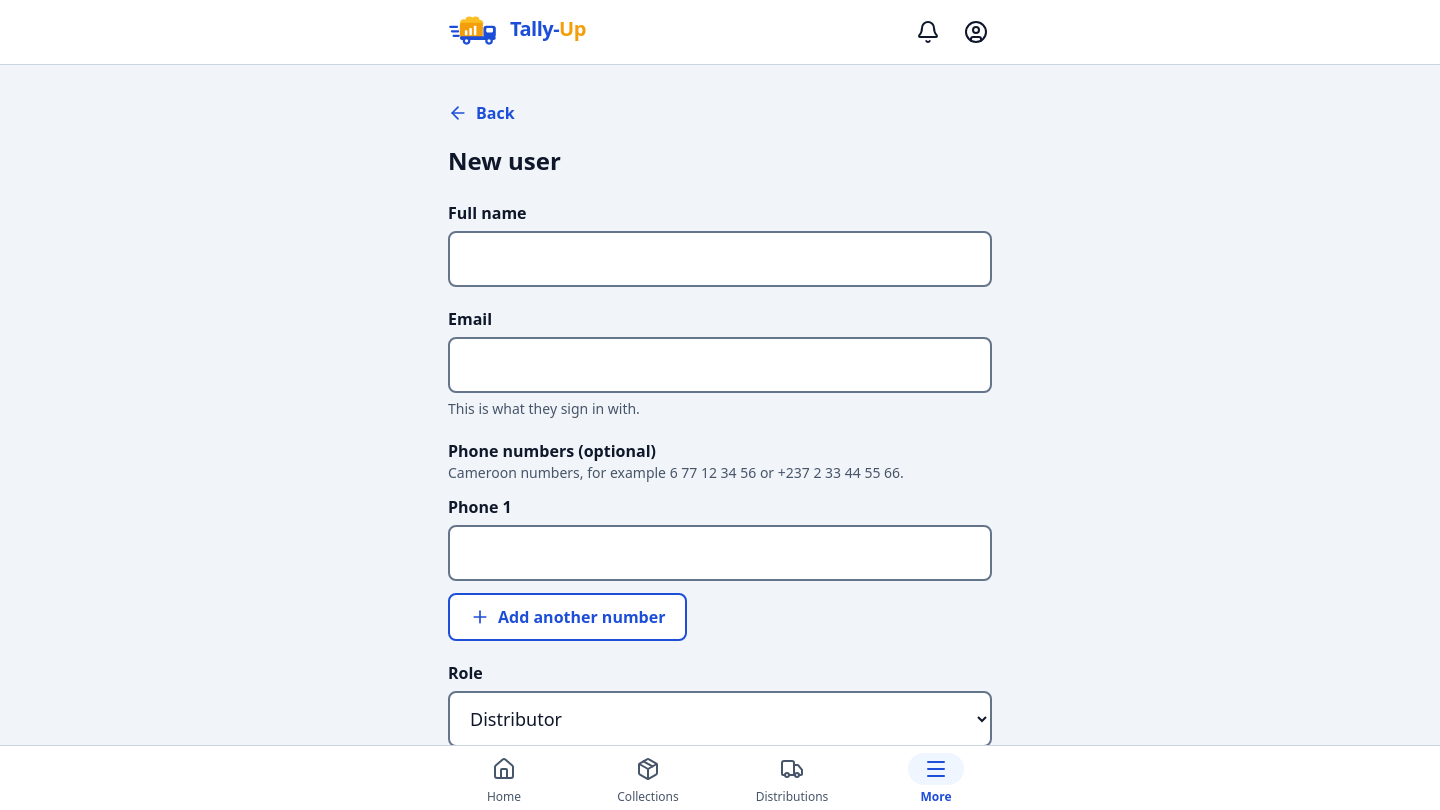
Test: Add user › USR-01: creates a distributor, remembers the password for the admin to pass on, and goes to the list
Type "Ann Distributor" into the field labelled "Full name" at (720, 259), box [448, 231, 992, 287]
Type "Ann@Example.test" into the field labelled "Email" at (720, 365), box [448, 337, 992, 393]
Type "6 77 12 34 56" into the field labelled "Phone 1" at (720, 553), box [448, 525, 992, 581]
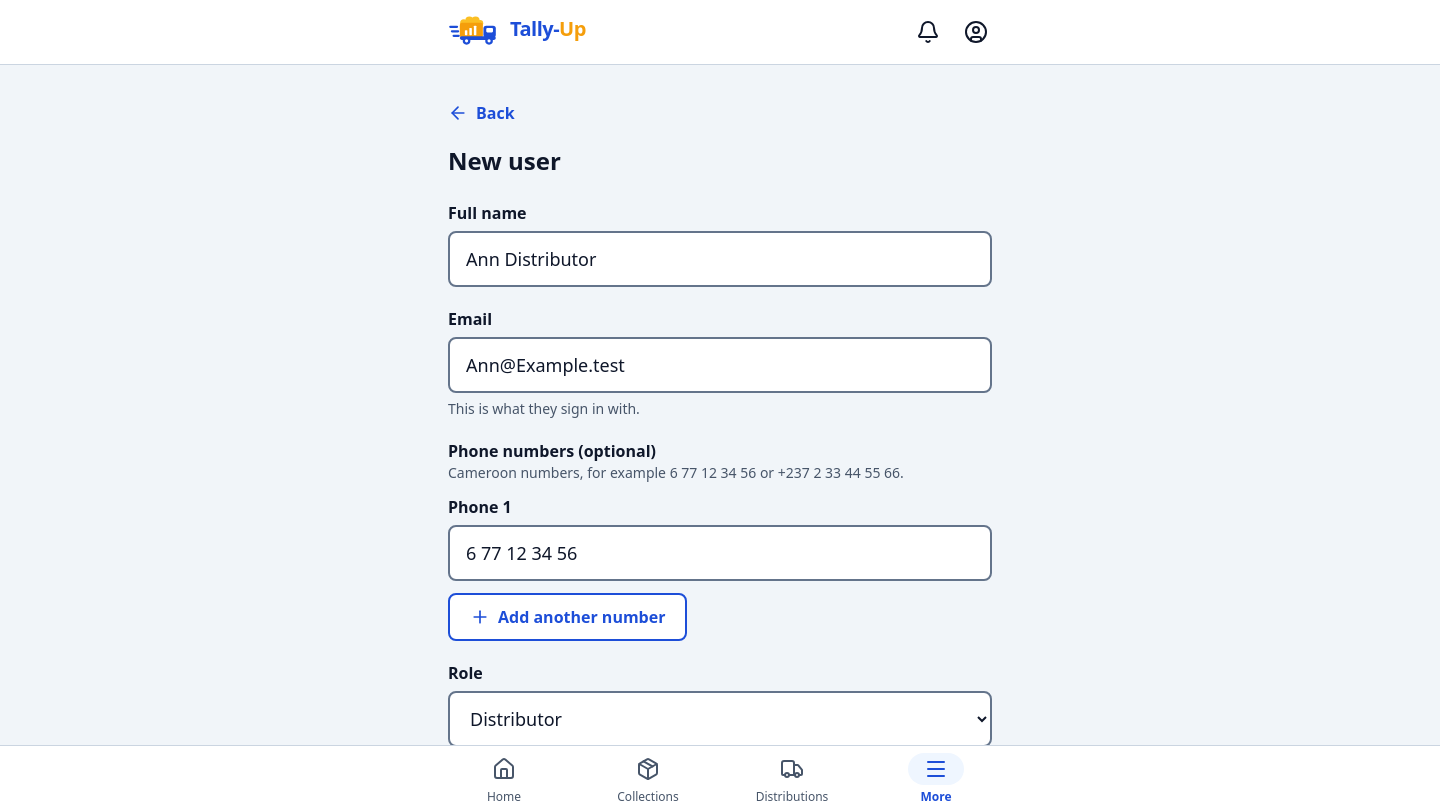
Click the button "Add another number" at (568, 617), box [448, 593, 688, 641]
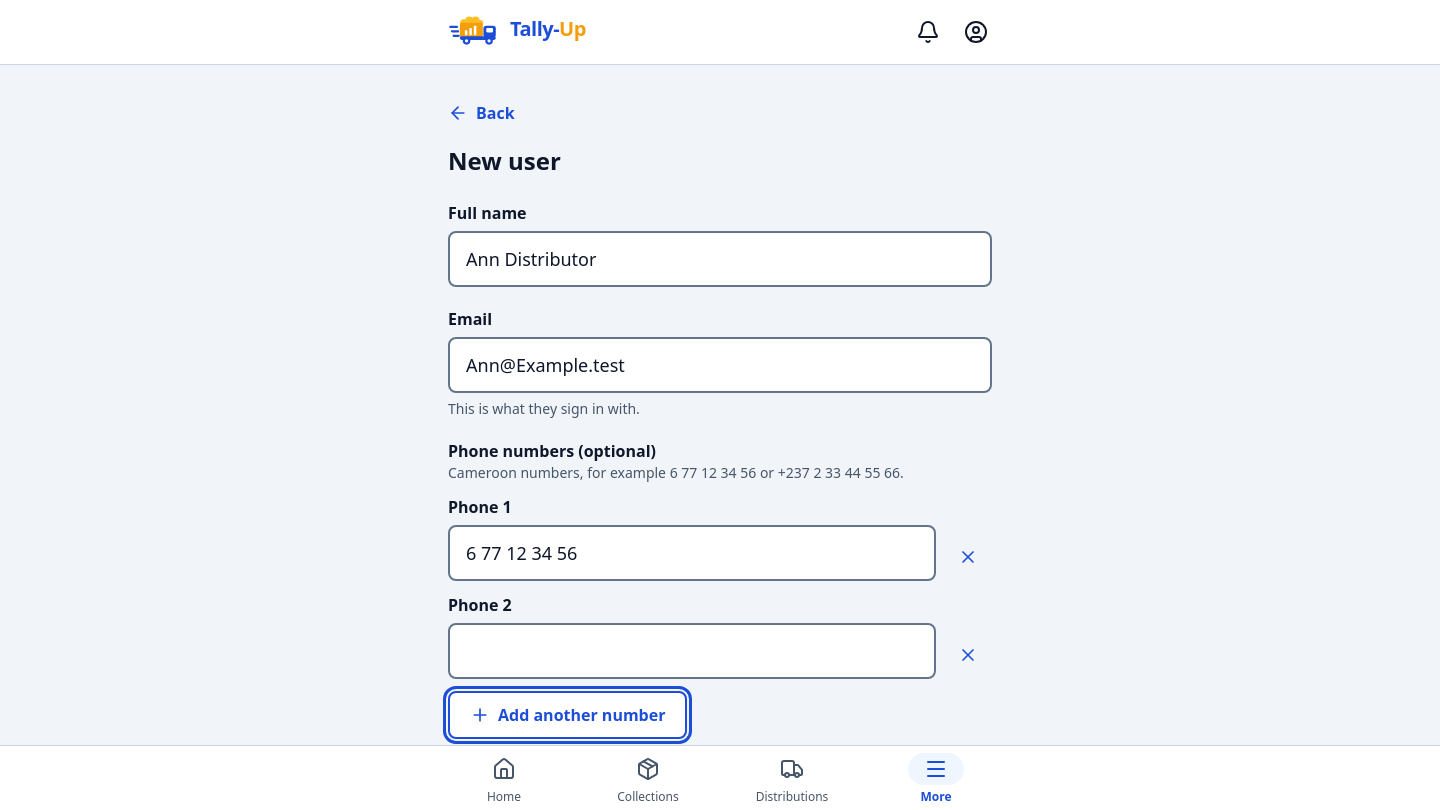
Type "+237 233 44 55 66" into the field labelled "Phone 2" at (692, 651), box [448, 623, 936, 679]
(page scrolled)
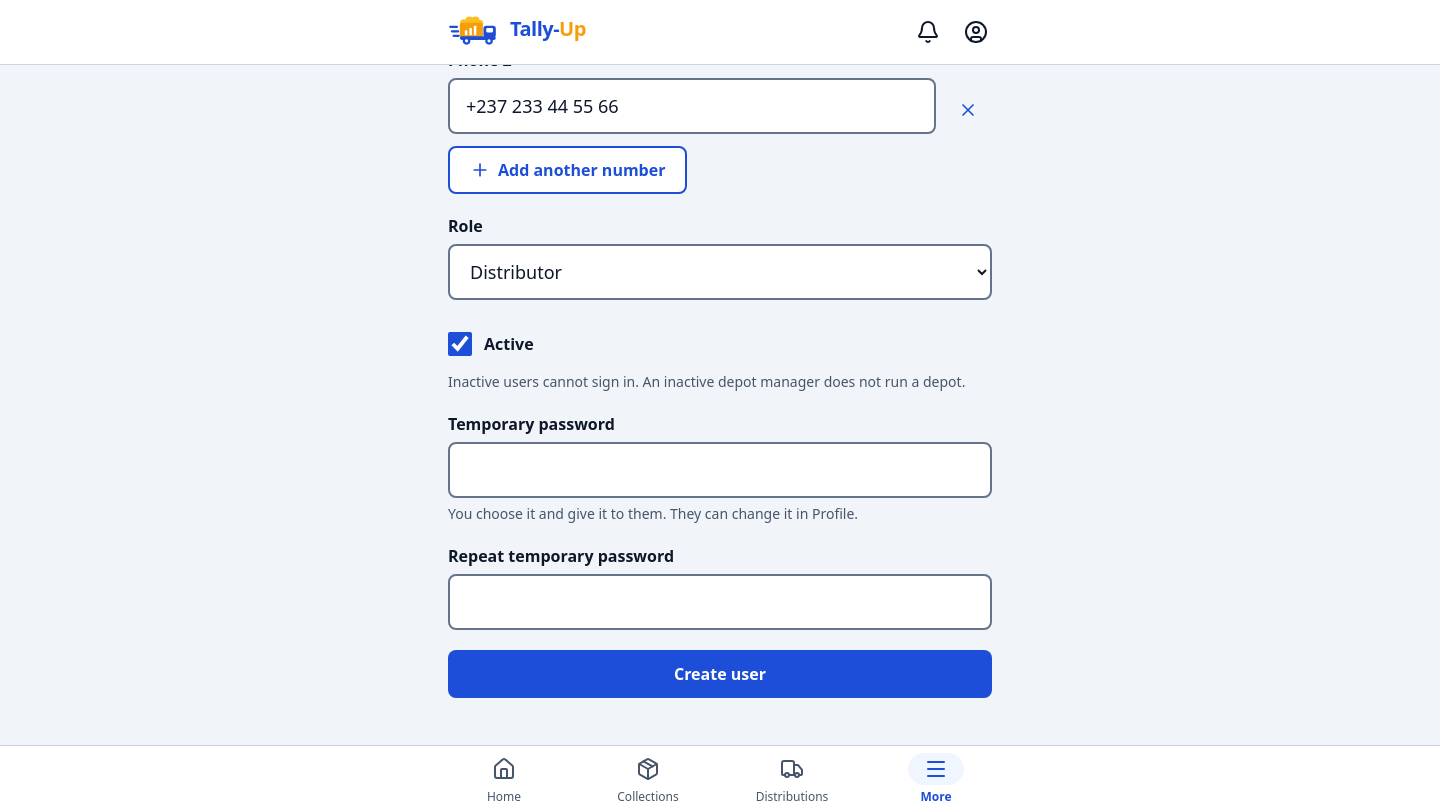
Type "temp-pass-1" into the password field labelled "Temporary password" at (720, 470), box [448, 442, 992, 498]
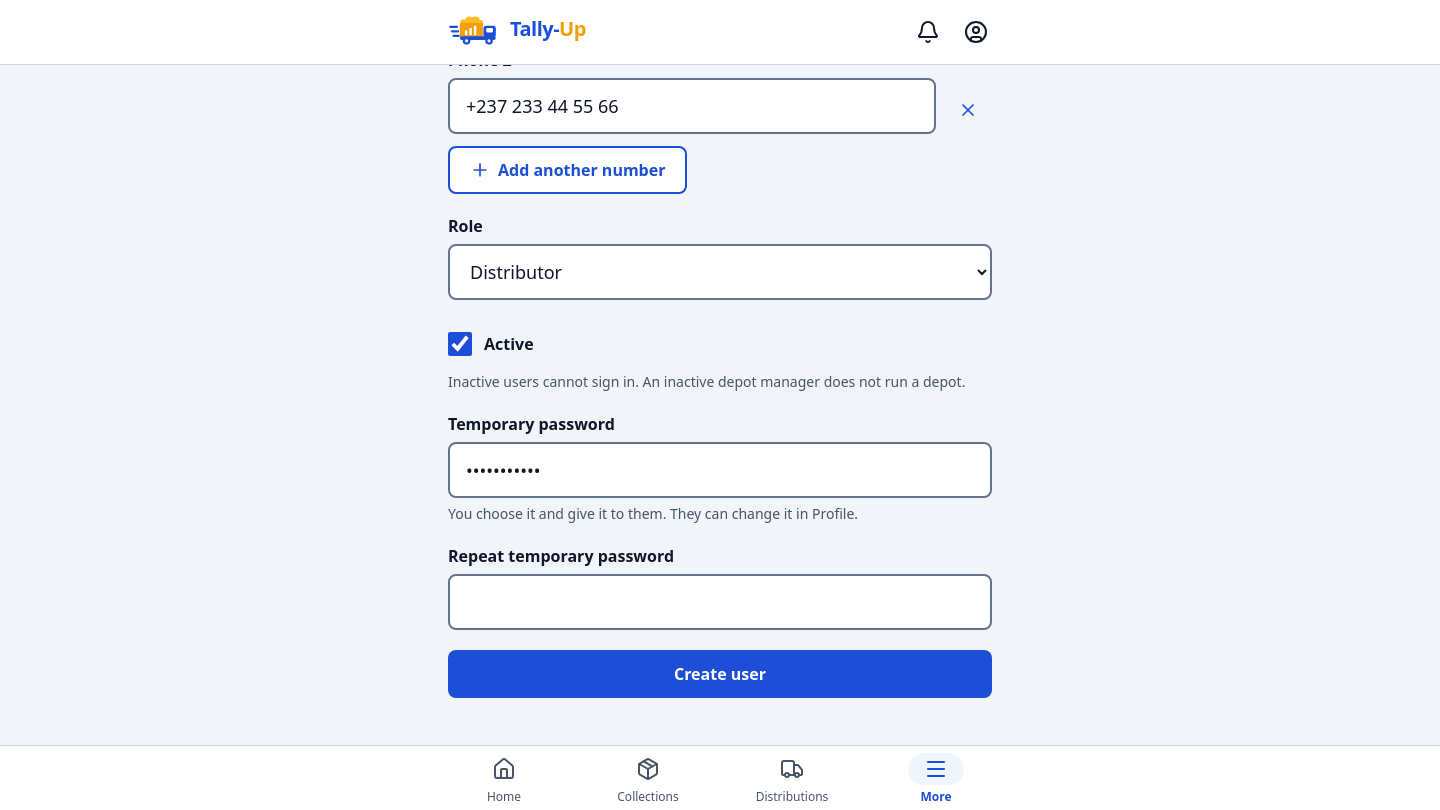
Type "temp-pass-1" into the password field labelled "Repeat temporary password" at (720, 602), box [448, 574, 992, 630]
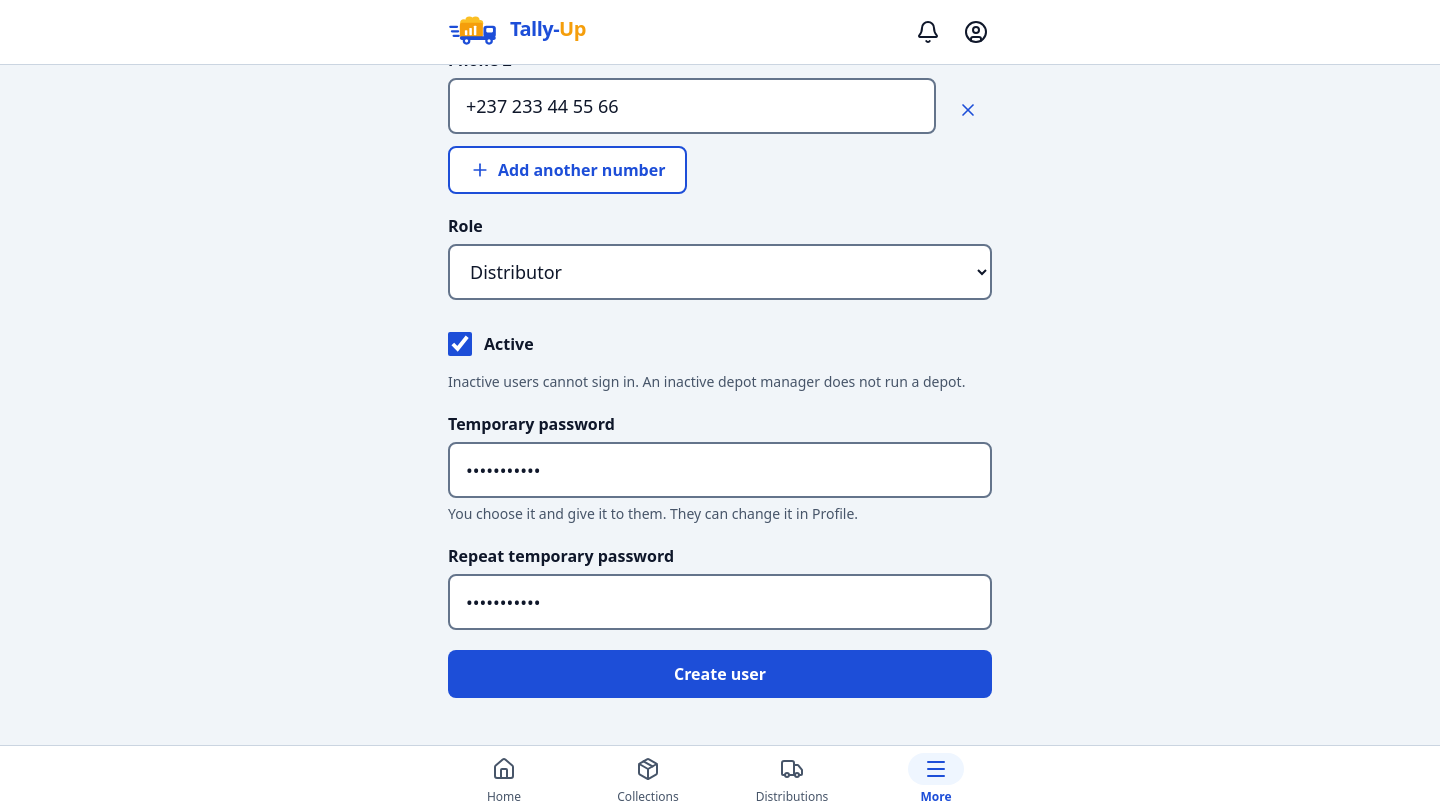
Click the button "Create user" at (720, 674), box [448, 650, 992, 698]
(page scrolled)
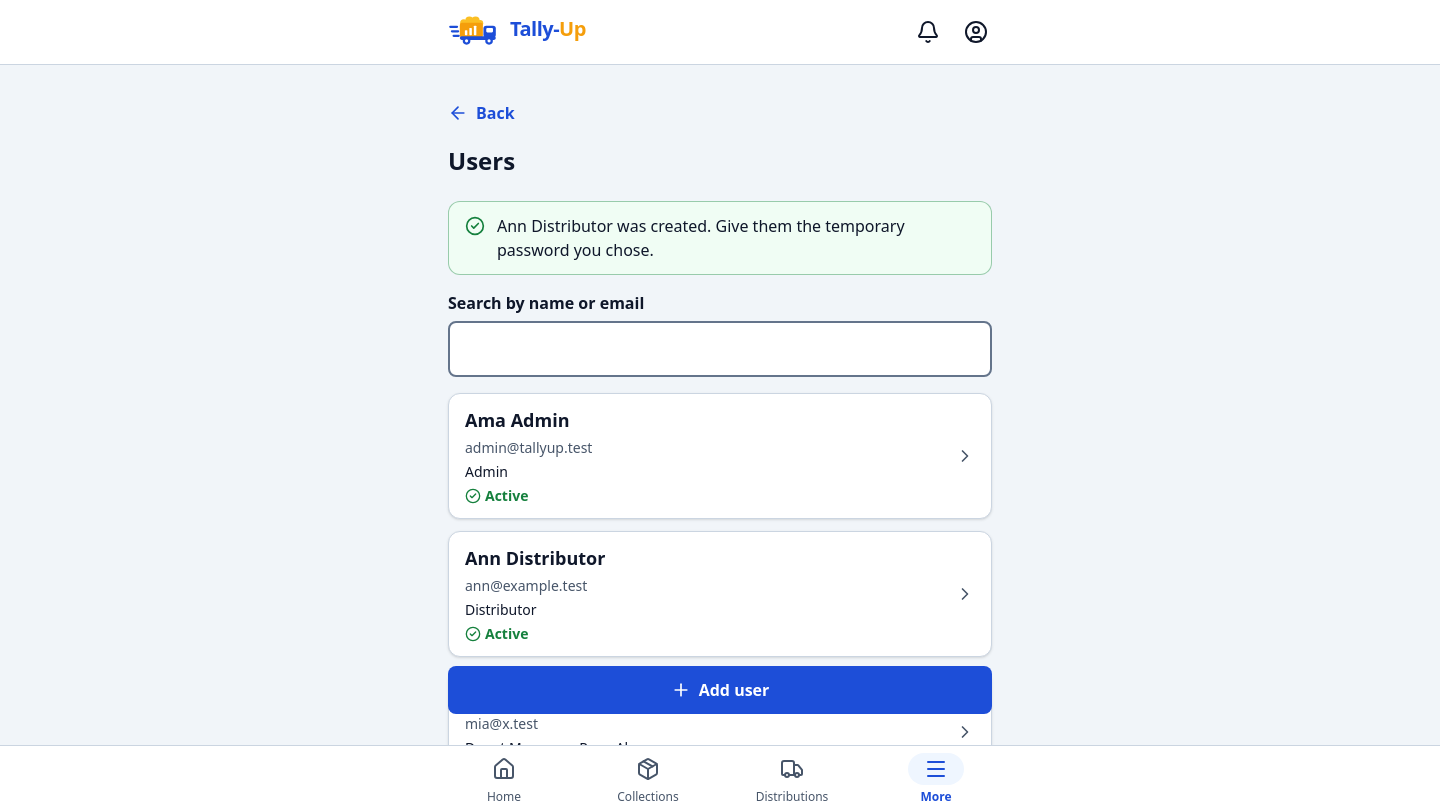
Expected: the text "Ann Distributor was created. Give them the temporary password you chose." is shown, [497, 214, 975, 262]
